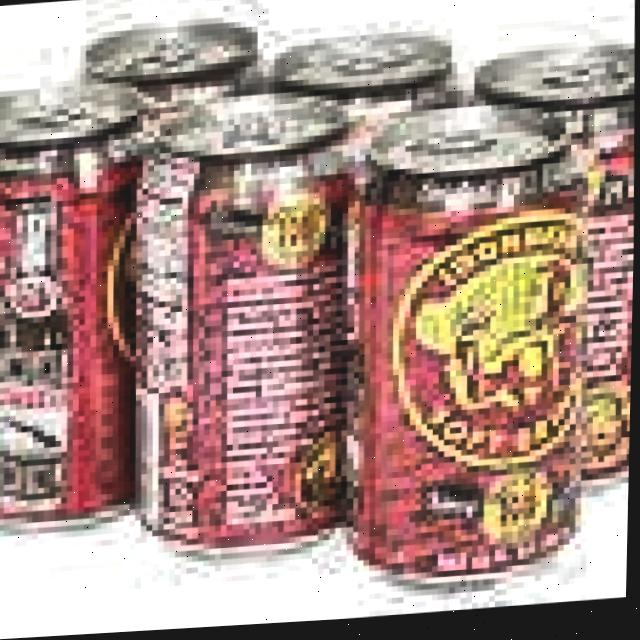metal: (124, 78, 374, 574), (341, 99, 597, 578), (449, 27, 639, 519), (0, 69, 162, 537), (255, 18, 476, 146), (61, 0, 277, 127)
